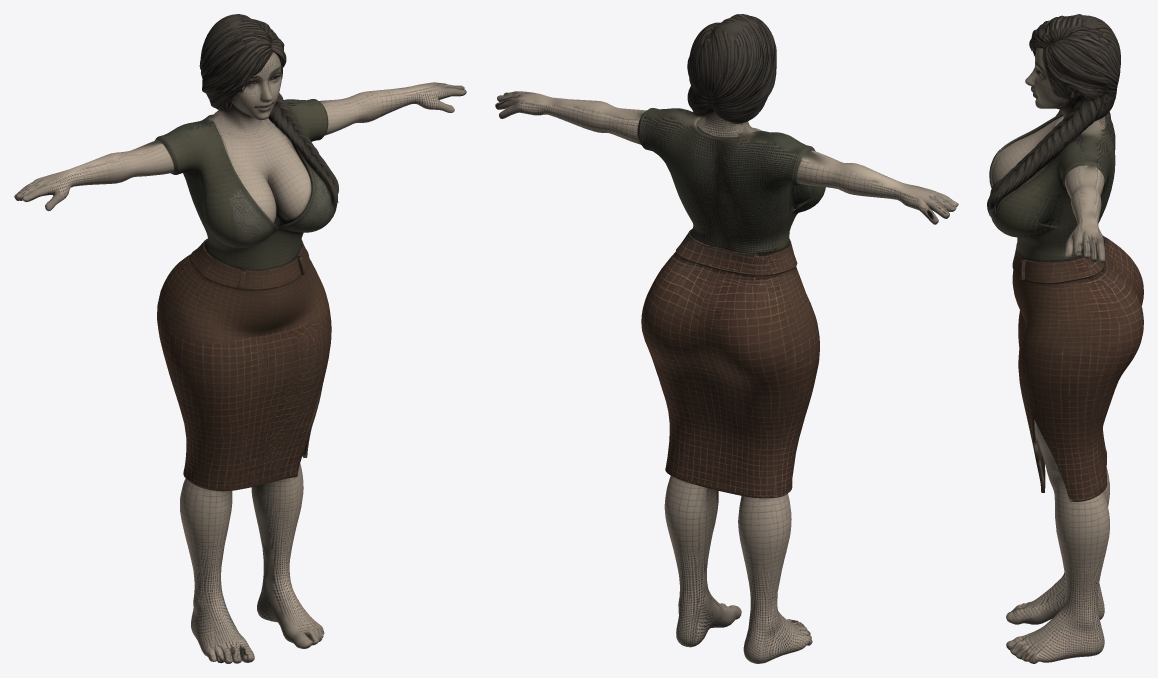
File: atelier-warm-earth.glb
3 renders of one model, left to right at view 1: azimuth 30°, elevation 25°; view 2: azimuth 150°, elevation 25°; view 3: azimuth 270°, elevation 25°, orthographic. The views are drawn at different scales.
Parts seen in each view (by area): view 1: Atelier_Size; view 2: Atelier_Size; view 3: Atelier_Size.
Boxes of the visible parts, x1,y1,x2,y2 form: Atelier_Size: (14,14,466,663); Atelier_Size: (495,14,958,663); Atelier_Size: (987,14,1143,663).
Size of the model in its own units: 0.8071 by 1.06 by 0.2434.
1 material, 1 textured.
